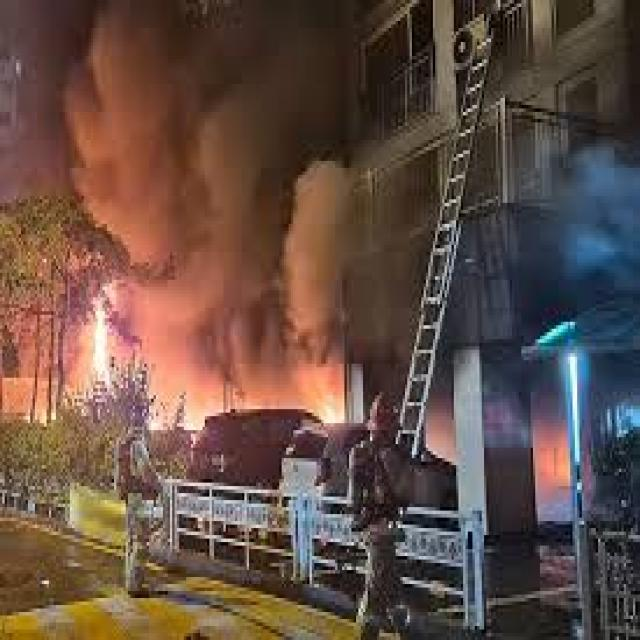explosion: (42, 0, 640, 566)
